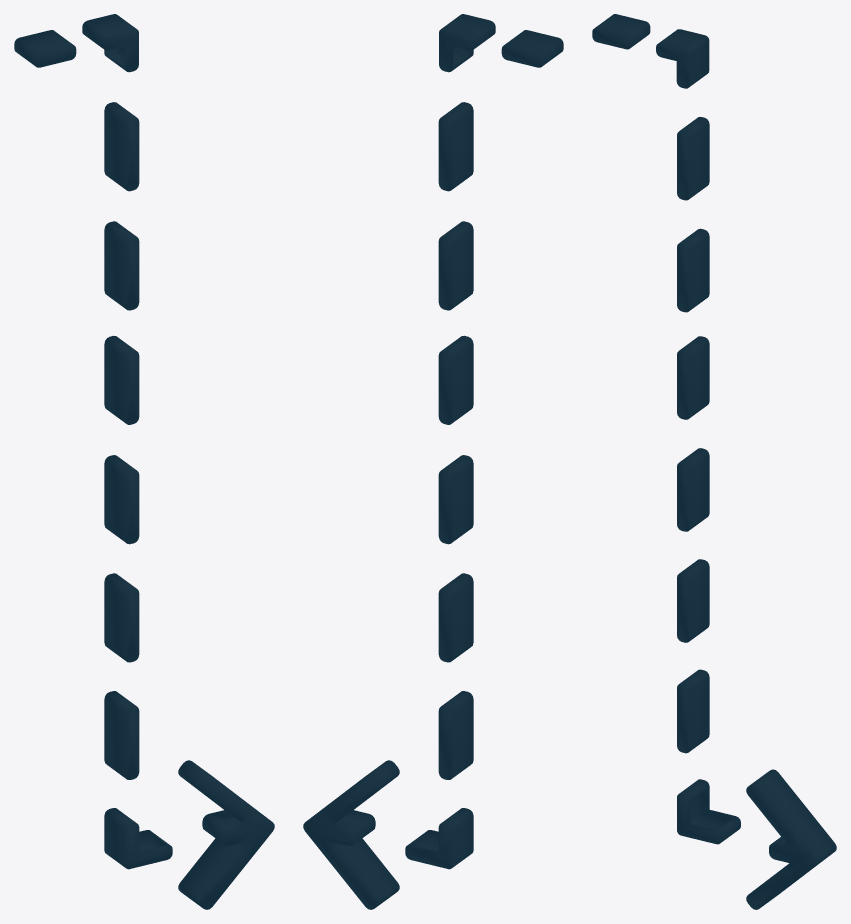
Rendered from arrowDownDot.gltf.
3 views of the same model, side by side, from view 1: azimuth 30°, elevation 25°; view 2: azimuth 150°, elevation 25°; view 3: azimuth 330°, elevation 25° (orthographic). The views are drawn at different scales.
Parts seen in each view (by area): view 1: Plane.017; view 2: Plane.017; view 3: Plane.017.
Part boxes in pixels (bbox=[...]): Plane.017: bbox=[14, 14, 274, 909]; Plane.017: bbox=[303, 14, 563, 909]; Plane.017: bbox=[592, 14, 836, 909].
Size of the model in its own units: 0.8909 by 3.19 by 0.1326.
